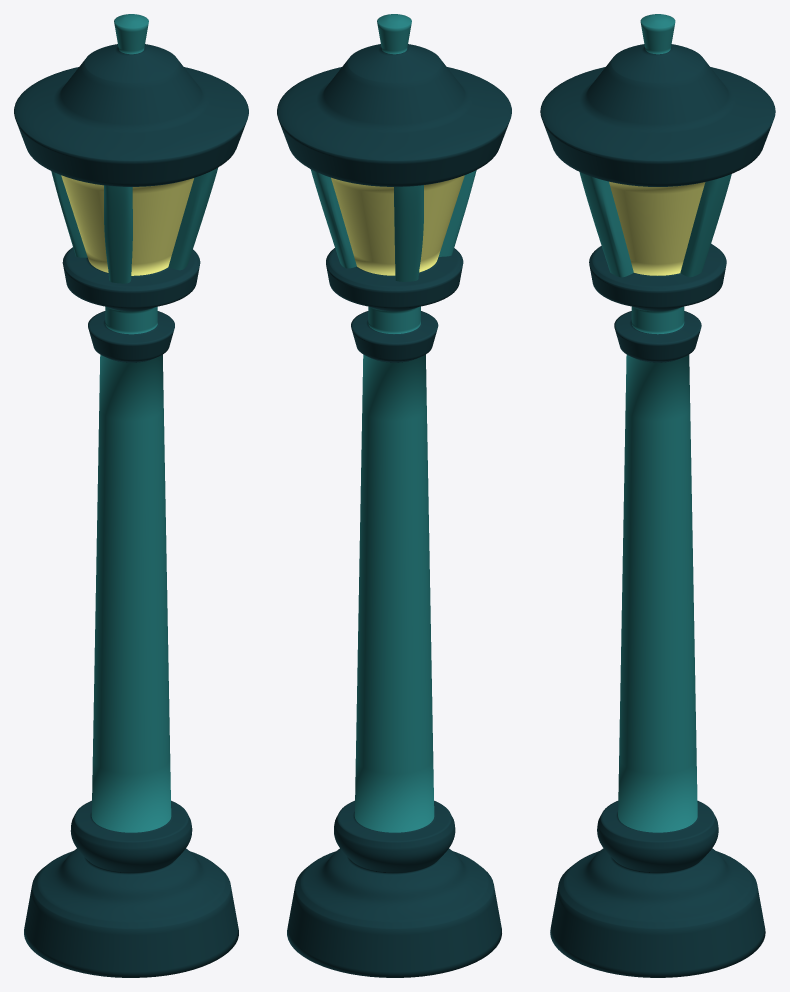
The model's file is streetlight.fbx.
The picture shows the model from 3 angles, left to right: view 1: azimuth 30°, elevation 25°; view 2: azimuth 150°, elevation 25°; view 3: azimuth 270°, elevation 25°; orthographic projection.
Visible parts, largest first — view 1: streetlight; view 2: streetlight; view 3: streetlight.
Boxes of the visible parts, x1,y1,x2,y2 form: streetlight: [14, 14, 248, 977]; streetlight: [277, 14, 511, 977]; streetlight: [540, 14, 775, 977].
Bounding box in the file's own units: 1.98 × 8.5 × 1.98.
